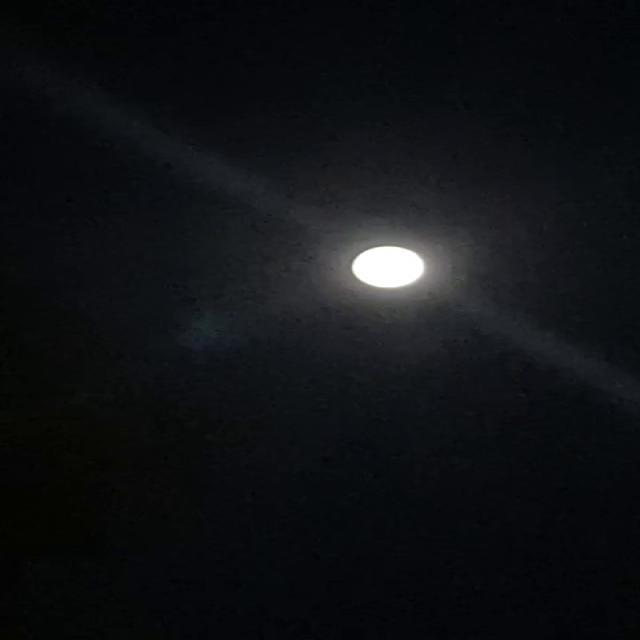moon: (338, 238, 454, 296)
